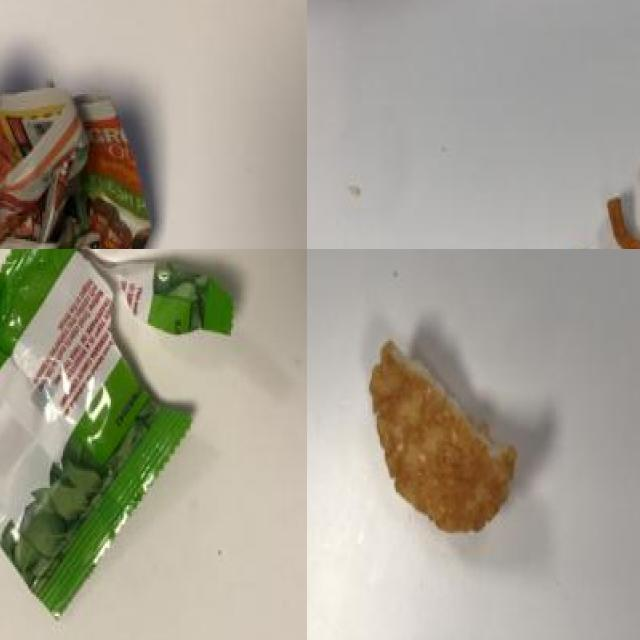compost: (350, 320, 542, 550), (475, 132, 640, 249)
paper: (0, 36, 165, 249)
trash: (0, 249, 262, 619)
